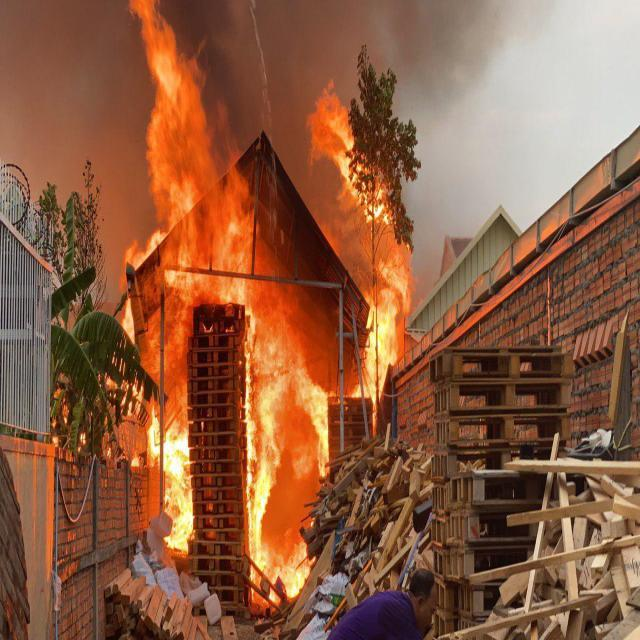Fire: (123, 0, 253, 302), (248, 276, 328, 604), (148, 414, 192, 547), (360, 294, 397, 399)
